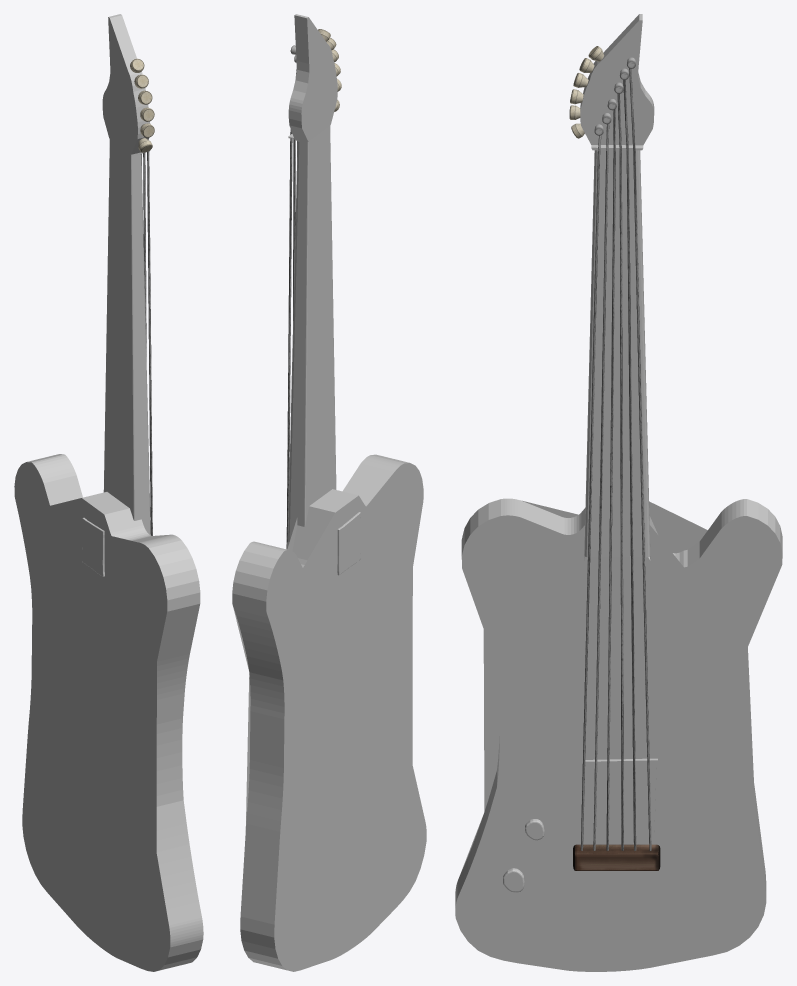
The model's file is Guitar.obj.
3 views of the same model, side by side, from view 1: azimuth 30°, elevation 25°; view 2: azimuth 150°, elevation 25°; view 3: azimuth 270°, elevation 25° (orthographic). The views are drawn at different scales.
Visible parts, largest first — view 1: Body_Cube, Neck_Cube.001, Strings_Cylinder; view 2: Body_Cube, Neck_Cube.001, Strings_Cylinder; view 3: Body_Cube, Neck_Cube.001, Strings_Cylinder, Bottom_Cube.002.
Boxes of the visible parts, x1,y1,x2,y2 form: Body_Cube: (14,454,203,971); Neck_Cube.001: (102,14,150,535); Strings_Cylinder: (141,151,152,535); Body_Cube: (232,454,426,971); Neck_Cube.001: (286,14,337,549); Strings_Cylinder: (286,69,297,542); Body_Cube: (455,498,782,971); Neck_Cube.001: (580,14,654,584); Strings_Cylinder: (580,68,651,850); Bottom_Cube.002: (573,844,660,870).
Size of the model in its own units: 0.3229 by 5.56 by 1.73.
